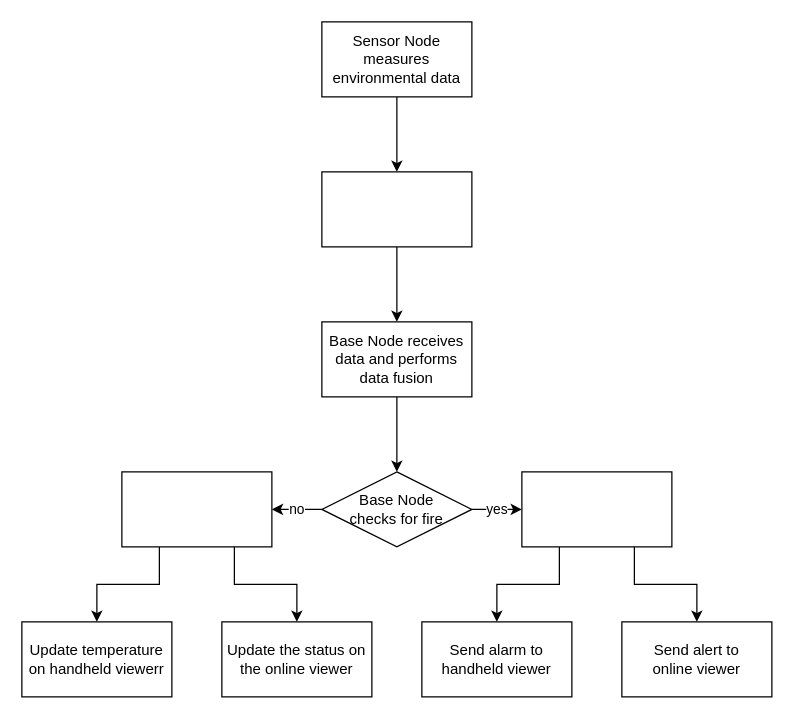
Image size: 794x719. Some labels were removed from this diagram. Each missing label, with the centre of its shape:
Generate fire alert: (596,509)
Sensor Node sends data to base node: (396,209)
Update the current temperature: (196,509)
